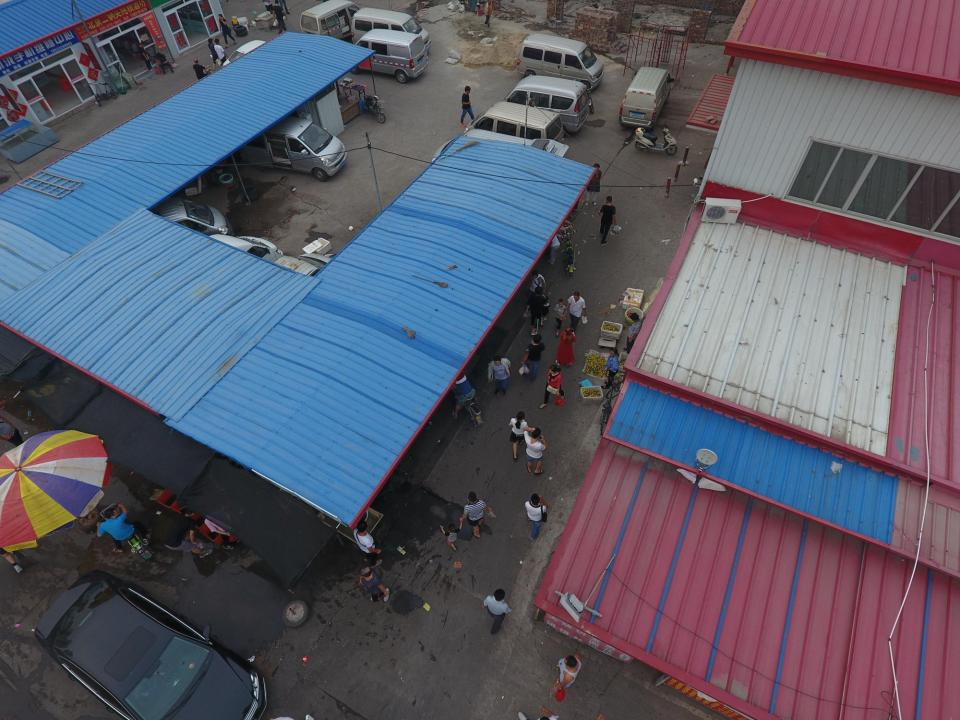car: (35, 570, 268, 720)
van: (242, 117, 348, 181), (430, 129, 570, 175), (463, 102, 564, 156), (505, 72, 589, 132), (516, 34, 606, 88), (350, 29, 426, 82), (138, 197, 236, 237), (352, 7, 432, 49), (257, 252, 335, 294), (618, 66, 672, 126), (300, 1, 364, 42), (203, 232, 282, 264), (223, 40, 270, 74)
